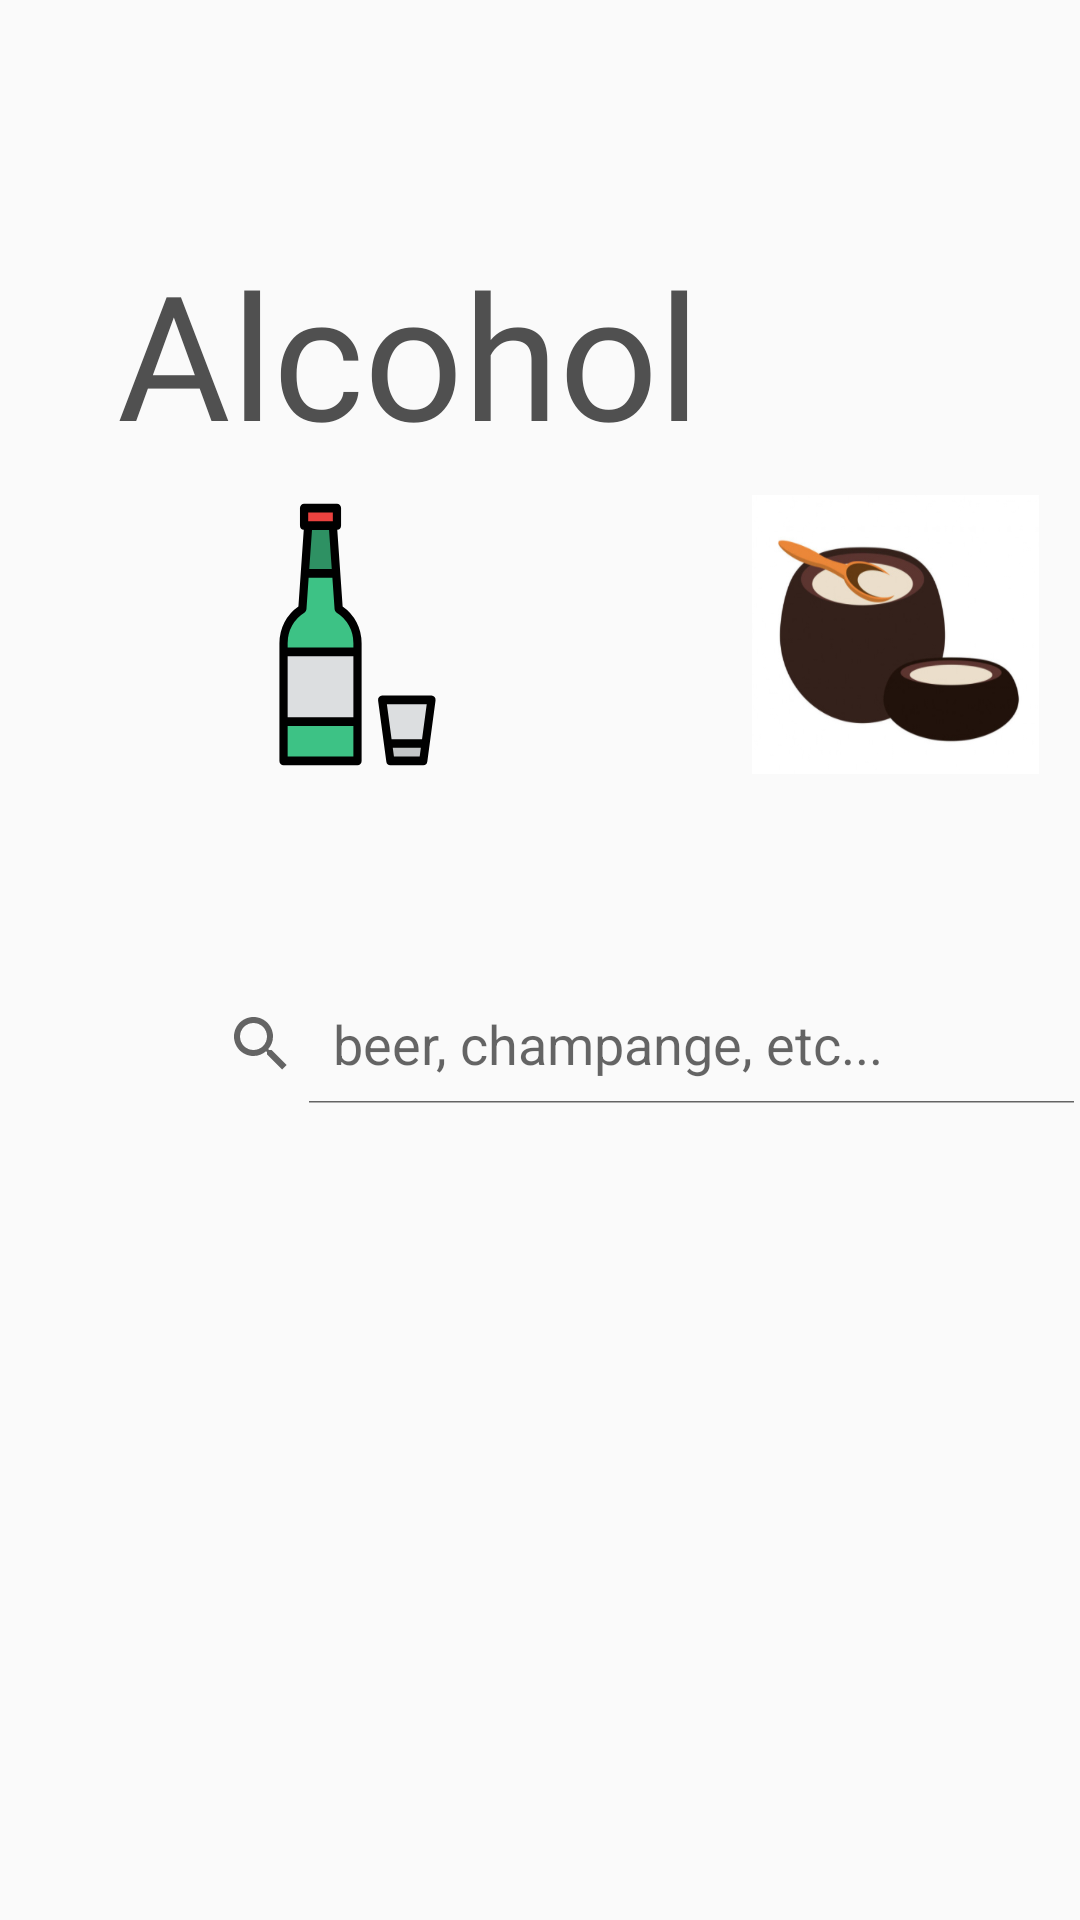

Point at icon controls on the screen. Image size 1080*1920, points as (x,y).
soju: (357,634)
